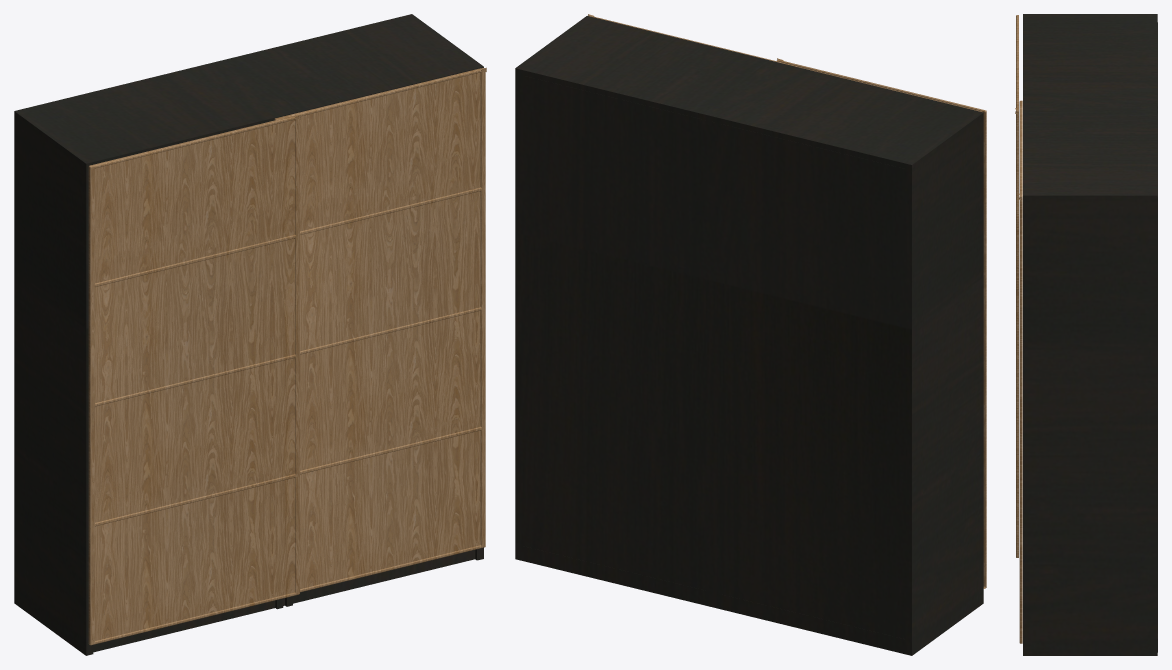
File: wardrobe.glb
The picture shows the model from 3 angles, left to right: view 1: azimuth 30°, elevation 25°; view 2: azimuth 150°, elevation 25°; view 3: azimuth 270°, elevation 25°; orthographic projection. The views are drawn at different scales.
Parts seen in each view (by area): view 1: Door.001_Plane.006, Door.000_Plane.003, Box_Plane; view 2: Box_Plane, Door.001_Plane.006; view 3: Box_Plane, Door.000_Plane.003, Door.001_Plane.006.
Boxes of the visible parts, box(x1,y1,x2,y2) form: Door.001_Plane.006: box(88, 115, 300, 645); Door.000_Plane.003: box(274, 67, 486, 592); Box_Plane: box(14, 14, 483, 655); Box_Plane: box(515, 16, 983, 655); Door.001_Plane.006: box(777, 58, 986, 588); Box_Plane: box(1023, 14, 1157, 655); Door.000_Plane.003: box(1019, 100, 1022, 643); Door.001_Plane.006: box(1015, 15, 1018, 557).
Size of the model in its own units: 2 by 2.36 by 0.6639.
Materials: 3 (3 with a texture image).
